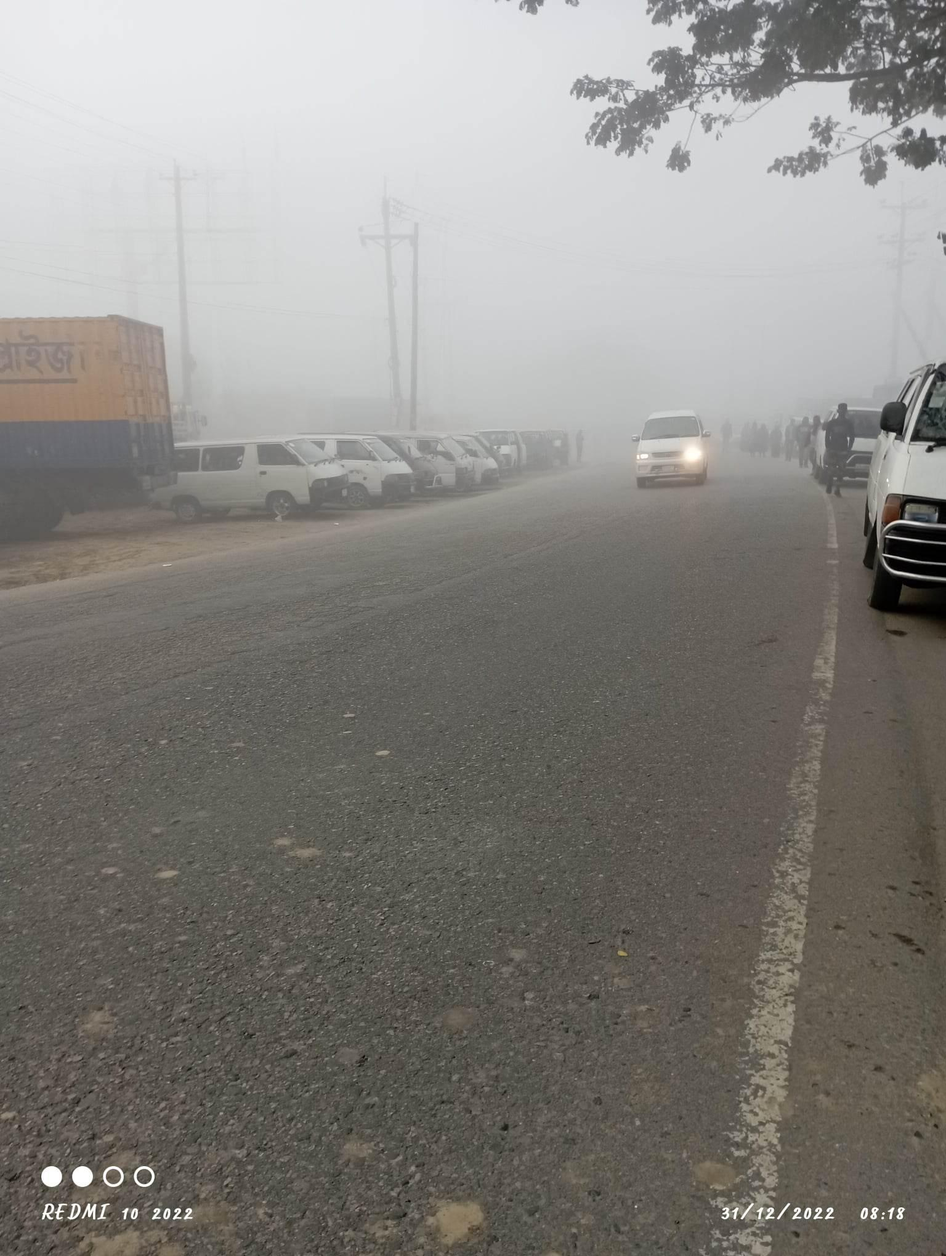Car: (850, 355, 946, 632), (170, 426, 348, 527), (618, 398, 741, 494), (329, 418, 420, 510), (811, 393, 887, 488)
Truck: (2, 294, 196, 556)
